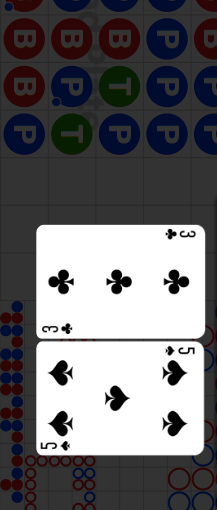3C: (163, 228, 197, 242)
5S: (40, 439, 72, 452)
